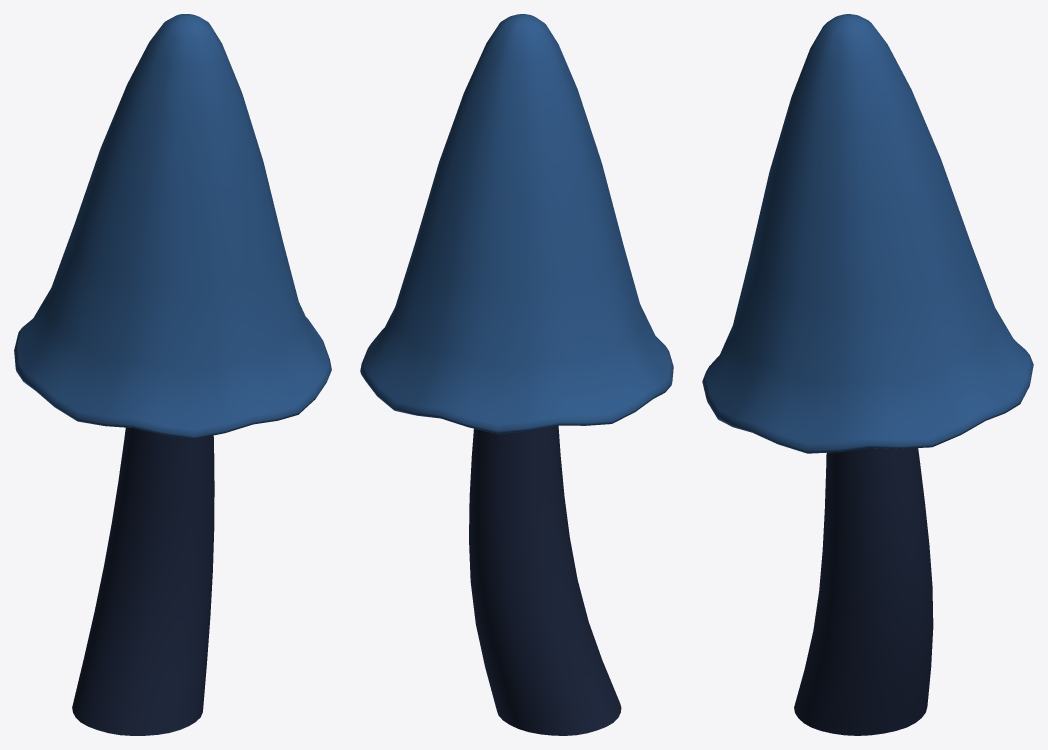
Rendered from BlueMush_D.fbx.
3 views of the same model, side by side, from view 1: azimuth 30°, elevation 25°; view 2: azimuth 150°, elevation 25°; view 3: azimuth 270°, elevation 25° (orthographic). The views are drawn at different scales.
Visible parts, largest first — view 1: BlueMush_D; view 2: BlueMush_D; view 3: BlueMush_D.
Boxes of the visible parts, x1,y1,x2,y2 form: BlueMush_D: (14, 14, 331, 735); BlueMush_D: (360, 14, 673, 735); BlueMush_D: (702, 14, 1033, 735).
Bounding box in the file's own units: 148 × 148 × 351.
